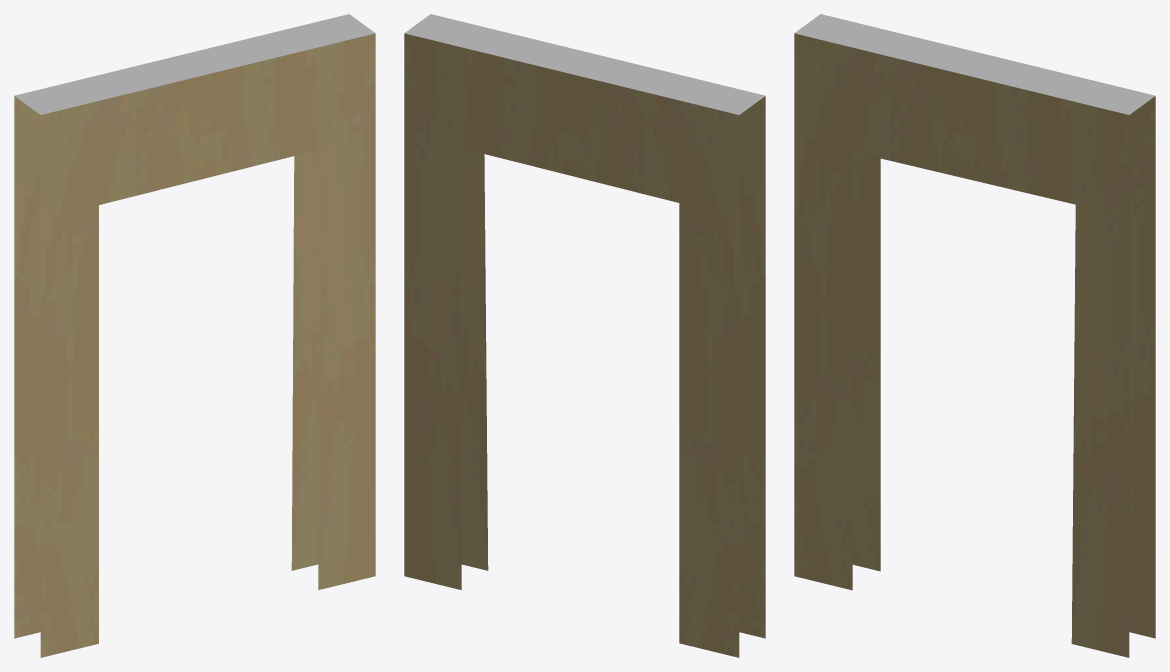
File: W_I2_o_Verschoben2_269.glb
3 views of the same model, side by side, from view 1: azimuth 30°, elevation 25°; view 2: azimuth 150°, elevation 25°; view 3: azimuth 330°, elevation 25° (orthographic).
Parts seen in each view (by area): view 1: pPlaneShape3, pPlaneShape2, pPlaneShape1; view 2: pPlaneShape2, pPlaneShape3, pPlaneShape1; view 3: pPlaneShape3, pPlaneShape2, pPlaneShape1.
Boxes of the visible parts, x1=… form: pPlaneShape3: x1=40, y1=33, x2=375, y2=657; pPlaneShape2: x1=14, y1=96, x2=321, y2=638; pPlaneShape1: x1=14, y1=14, x2=375, y2=114; pPlaneShape2: x1=404, y1=33, x2=739, y2=657; pPlaneShape3: x1=459, y1=96, x2=765, y2=638; pPlaneShape1: x1=404, y1=14, x2=765, y2=114; pPlaneShape3: x1=794, y1=33, x2=1129, y2=657; pPlaneShape2: x1=852, y1=96, x2=1155, y2=638; pPlaneShape1: x1=794, y1=14, x2=1155, y2=114.
Bounding box in the file's own units: 0.2252 × 0.3486 × 0.0308.
3 materials, 2 textured.
